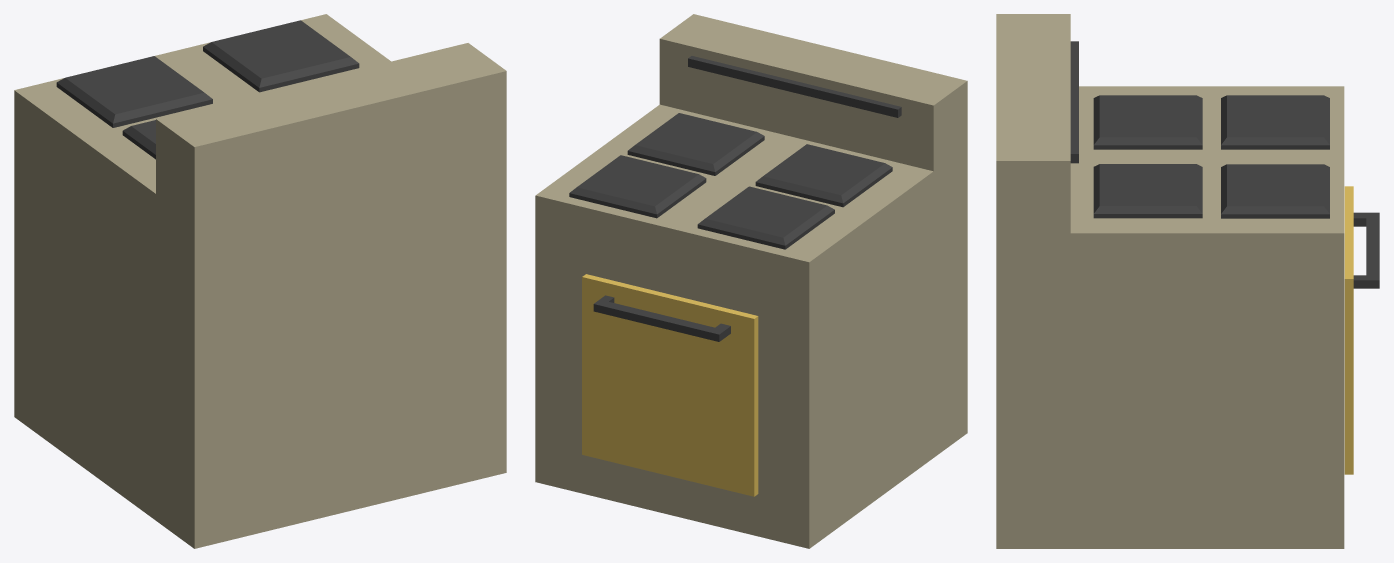
File: PizzaOven.fbx
The picture shows the model from 3 angles, left to right: view 1: azimuth 30°, elevation 25°; view 2: azimuth 150°, elevation 25°; view 3: azimuth 270°, elevation 25°; orthographic projection. The views are drawn at different scales.
Visible parts, largest first — view 1: Cube; view 2: Cube; view 3: Cube.
Boxes of the visible parts, <box> form: Cube: <box>14,14,506,548</box>; Cube: <box>535,14,967,548</box>; Cube: <box>996,14,1379,548</box>.
Bounding box in the file's own units: 2 × 2.46 × 2.2.
